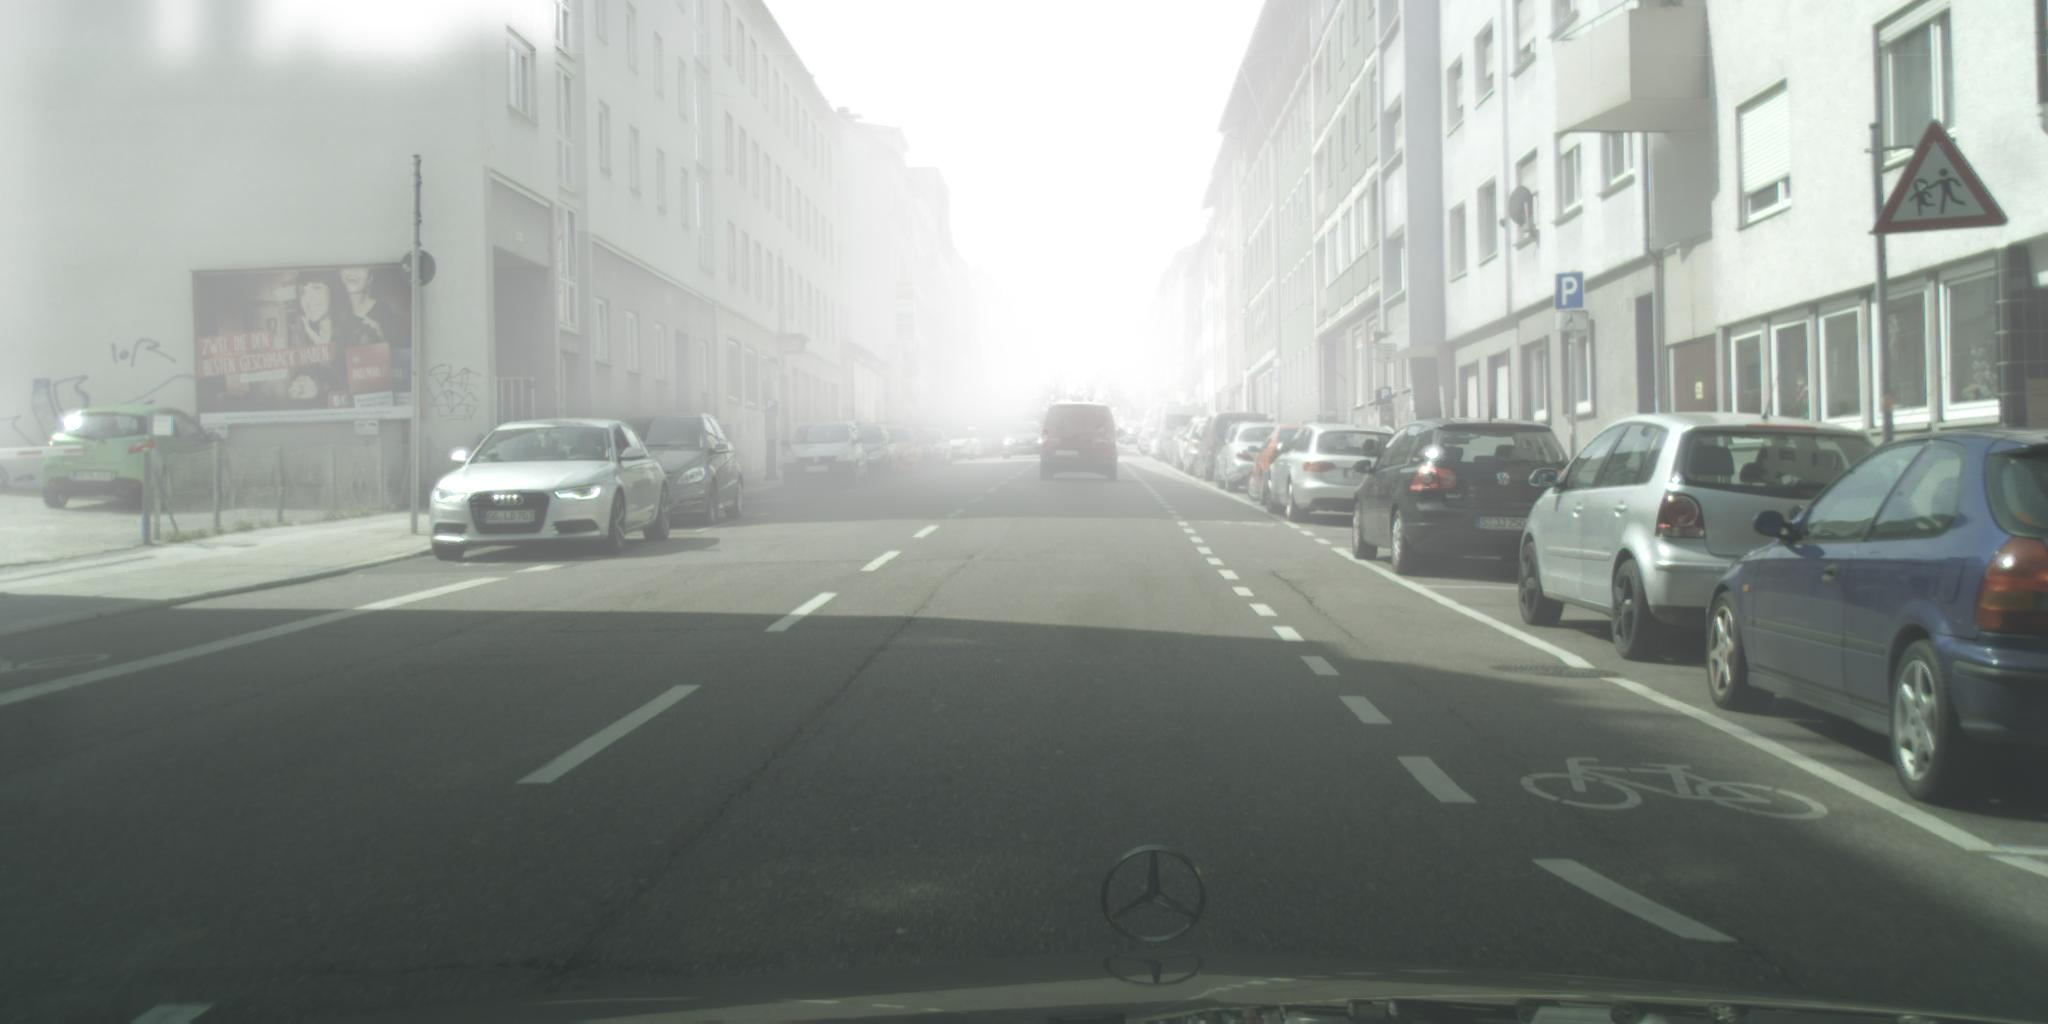car: (1706, 430, 2048, 807), (1518, 398, 1880, 664), (430, 418, 674, 562), (1353, 418, 1573, 577), (40, 406, 226, 513), (606, 414, 744, 526), (1266, 424, 1401, 524), (1036, 404, 1127, 485), (780, 422, 871, 491), (1213, 423, 1294, 494), (1192, 411, 1270, 482), (1247, 426, 1310, 509), (837, 426, 904, 485), (1149, 402, 1206, 465), (872, 426, 923, 478), (1000, 422, 1051, 460), (917, 428, 953, 468), (903, 430, 938, 469), (939, 426, 974, 462)
